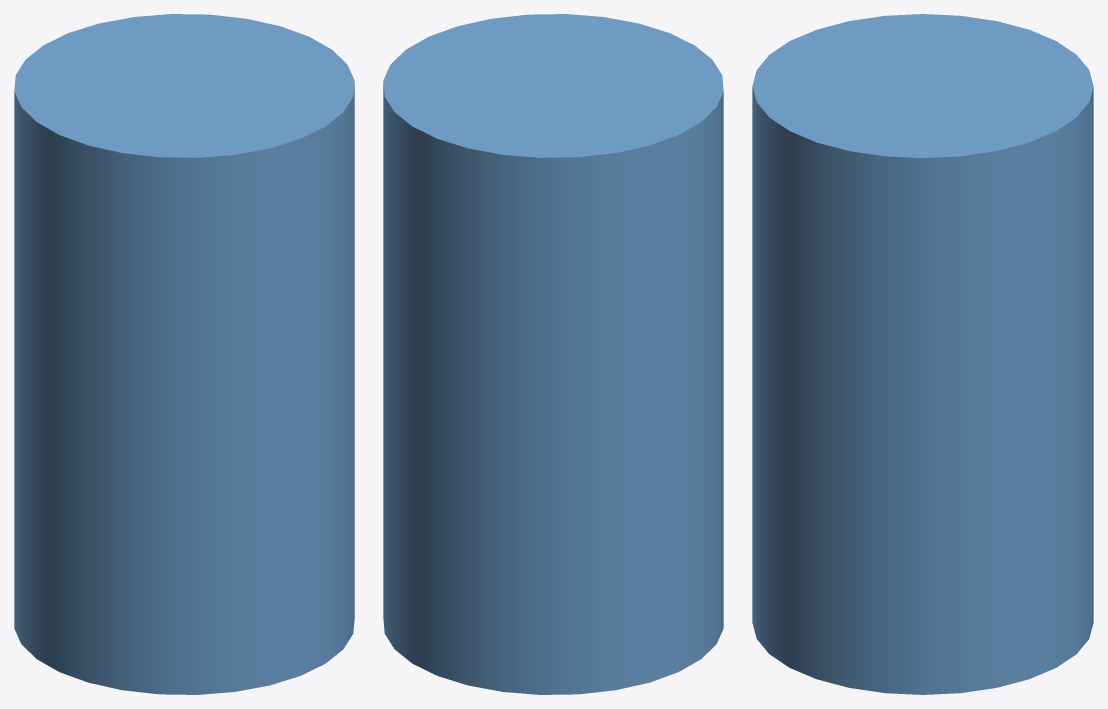
The model's file is flyer-shape-cylinder-chamber-carrier-v1.glb.
The picture shows the model from 3 angles, left to right: view 1: azimuth 30°, elevation 25°; view 2: azimuth 150°, elevation 25°; view 3: azimuth 270°, elevation 25°; orthographic projection.
Parts seen in each view (by area): view 1: Cylinder Chamber Carrier; view 2: Cylinder Chamber Carrier; view 3: Cylinder Chamber Carrier.
Part boxes in pixels (x1,y1,x2,y2): Cylinder Chamber Carrier: [14, 14, 354, 694]; Cylinder Chamber Carrier: [383, 14, 723, 694]; Cylinder Chamber Carrier: [752, 14, 1093, 694].
Bounding box in the file's own units: 1.44 × 2.5 × 1.44.
